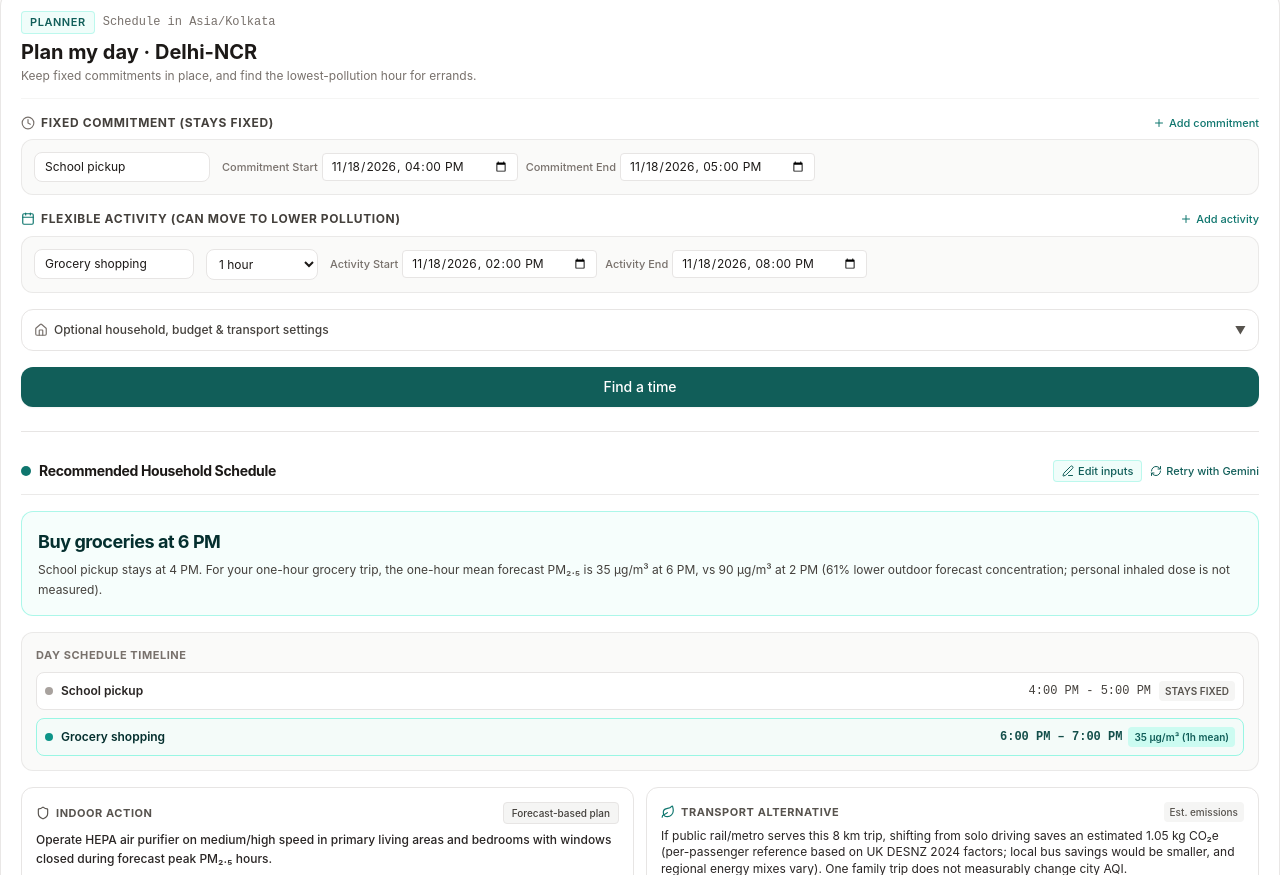
Test: displays supported numeric CO2e comparison by default and removes savings badge when transit & distance inputs are missing
The image size is (1280, 875).
Earlier steps of the test are not shown.
Click the button "Find a time" at (640, 386), box top-left (21, 366), bottom-right (1259, 406)
(page scrolled)
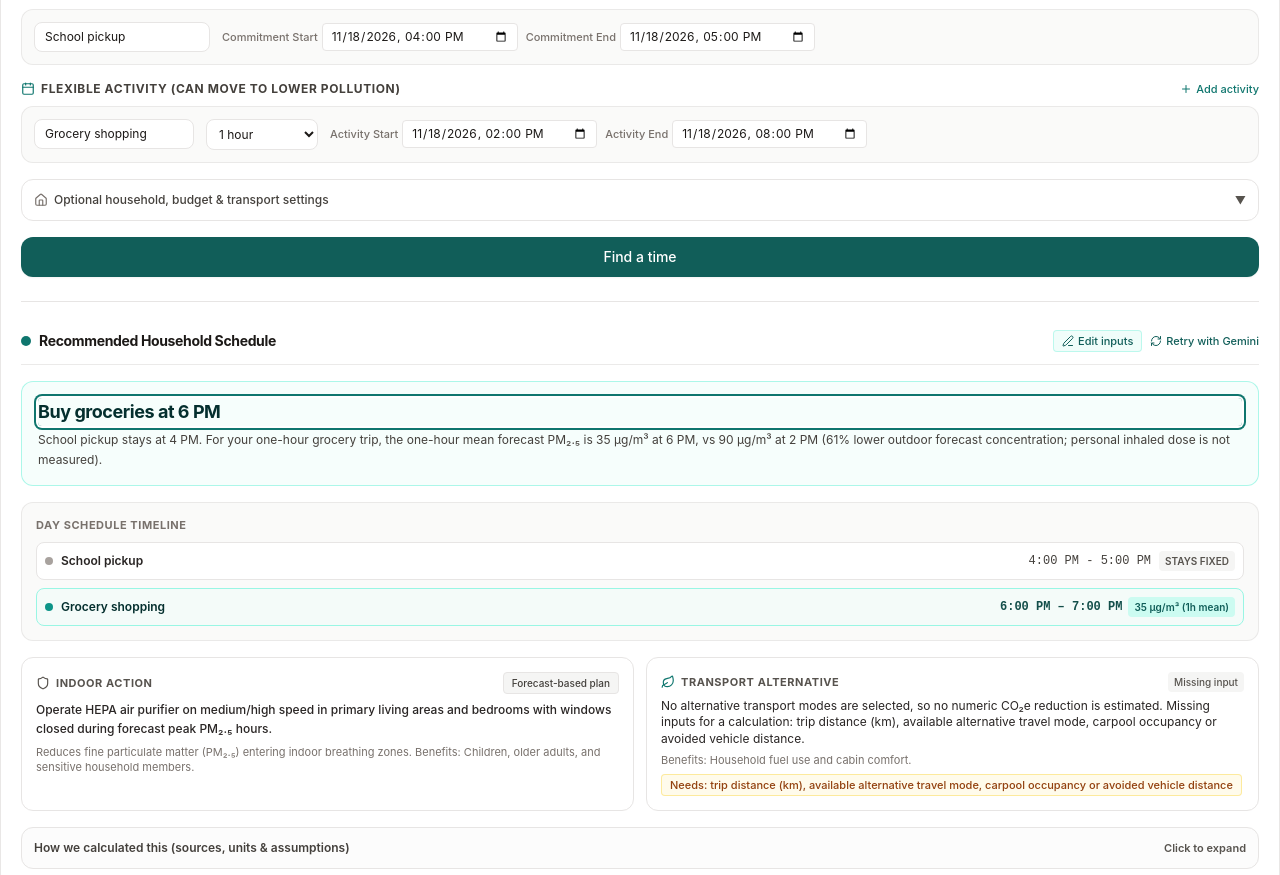
Expected: the text with test id "transport-type-badge" reads "Missing input", top-left (1174, 676), bottom-right (1238, 688)
Expected: the text with test id "transport-missing-inputs" shows "trip distance (km)", top-left (710, 778), bottom-right (1233, 792)
Expected: the text with test id "transport-missing-inputs" shows "available alternative travel mode", top-left (710, 778), bottom-right (1233, 792)
